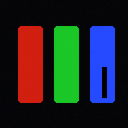4 line_v: (102, 67, 106, 97)
